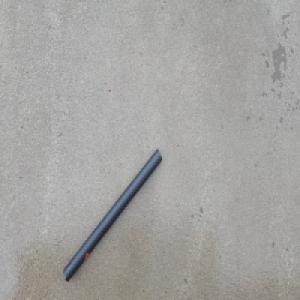LuggagePart: (62, 146, 162, 281)
